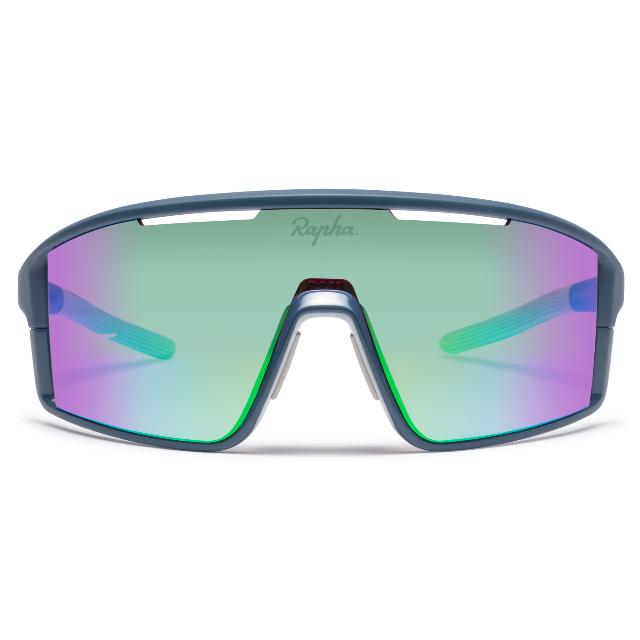Sunglasses: (14, 183, 636, 467)
